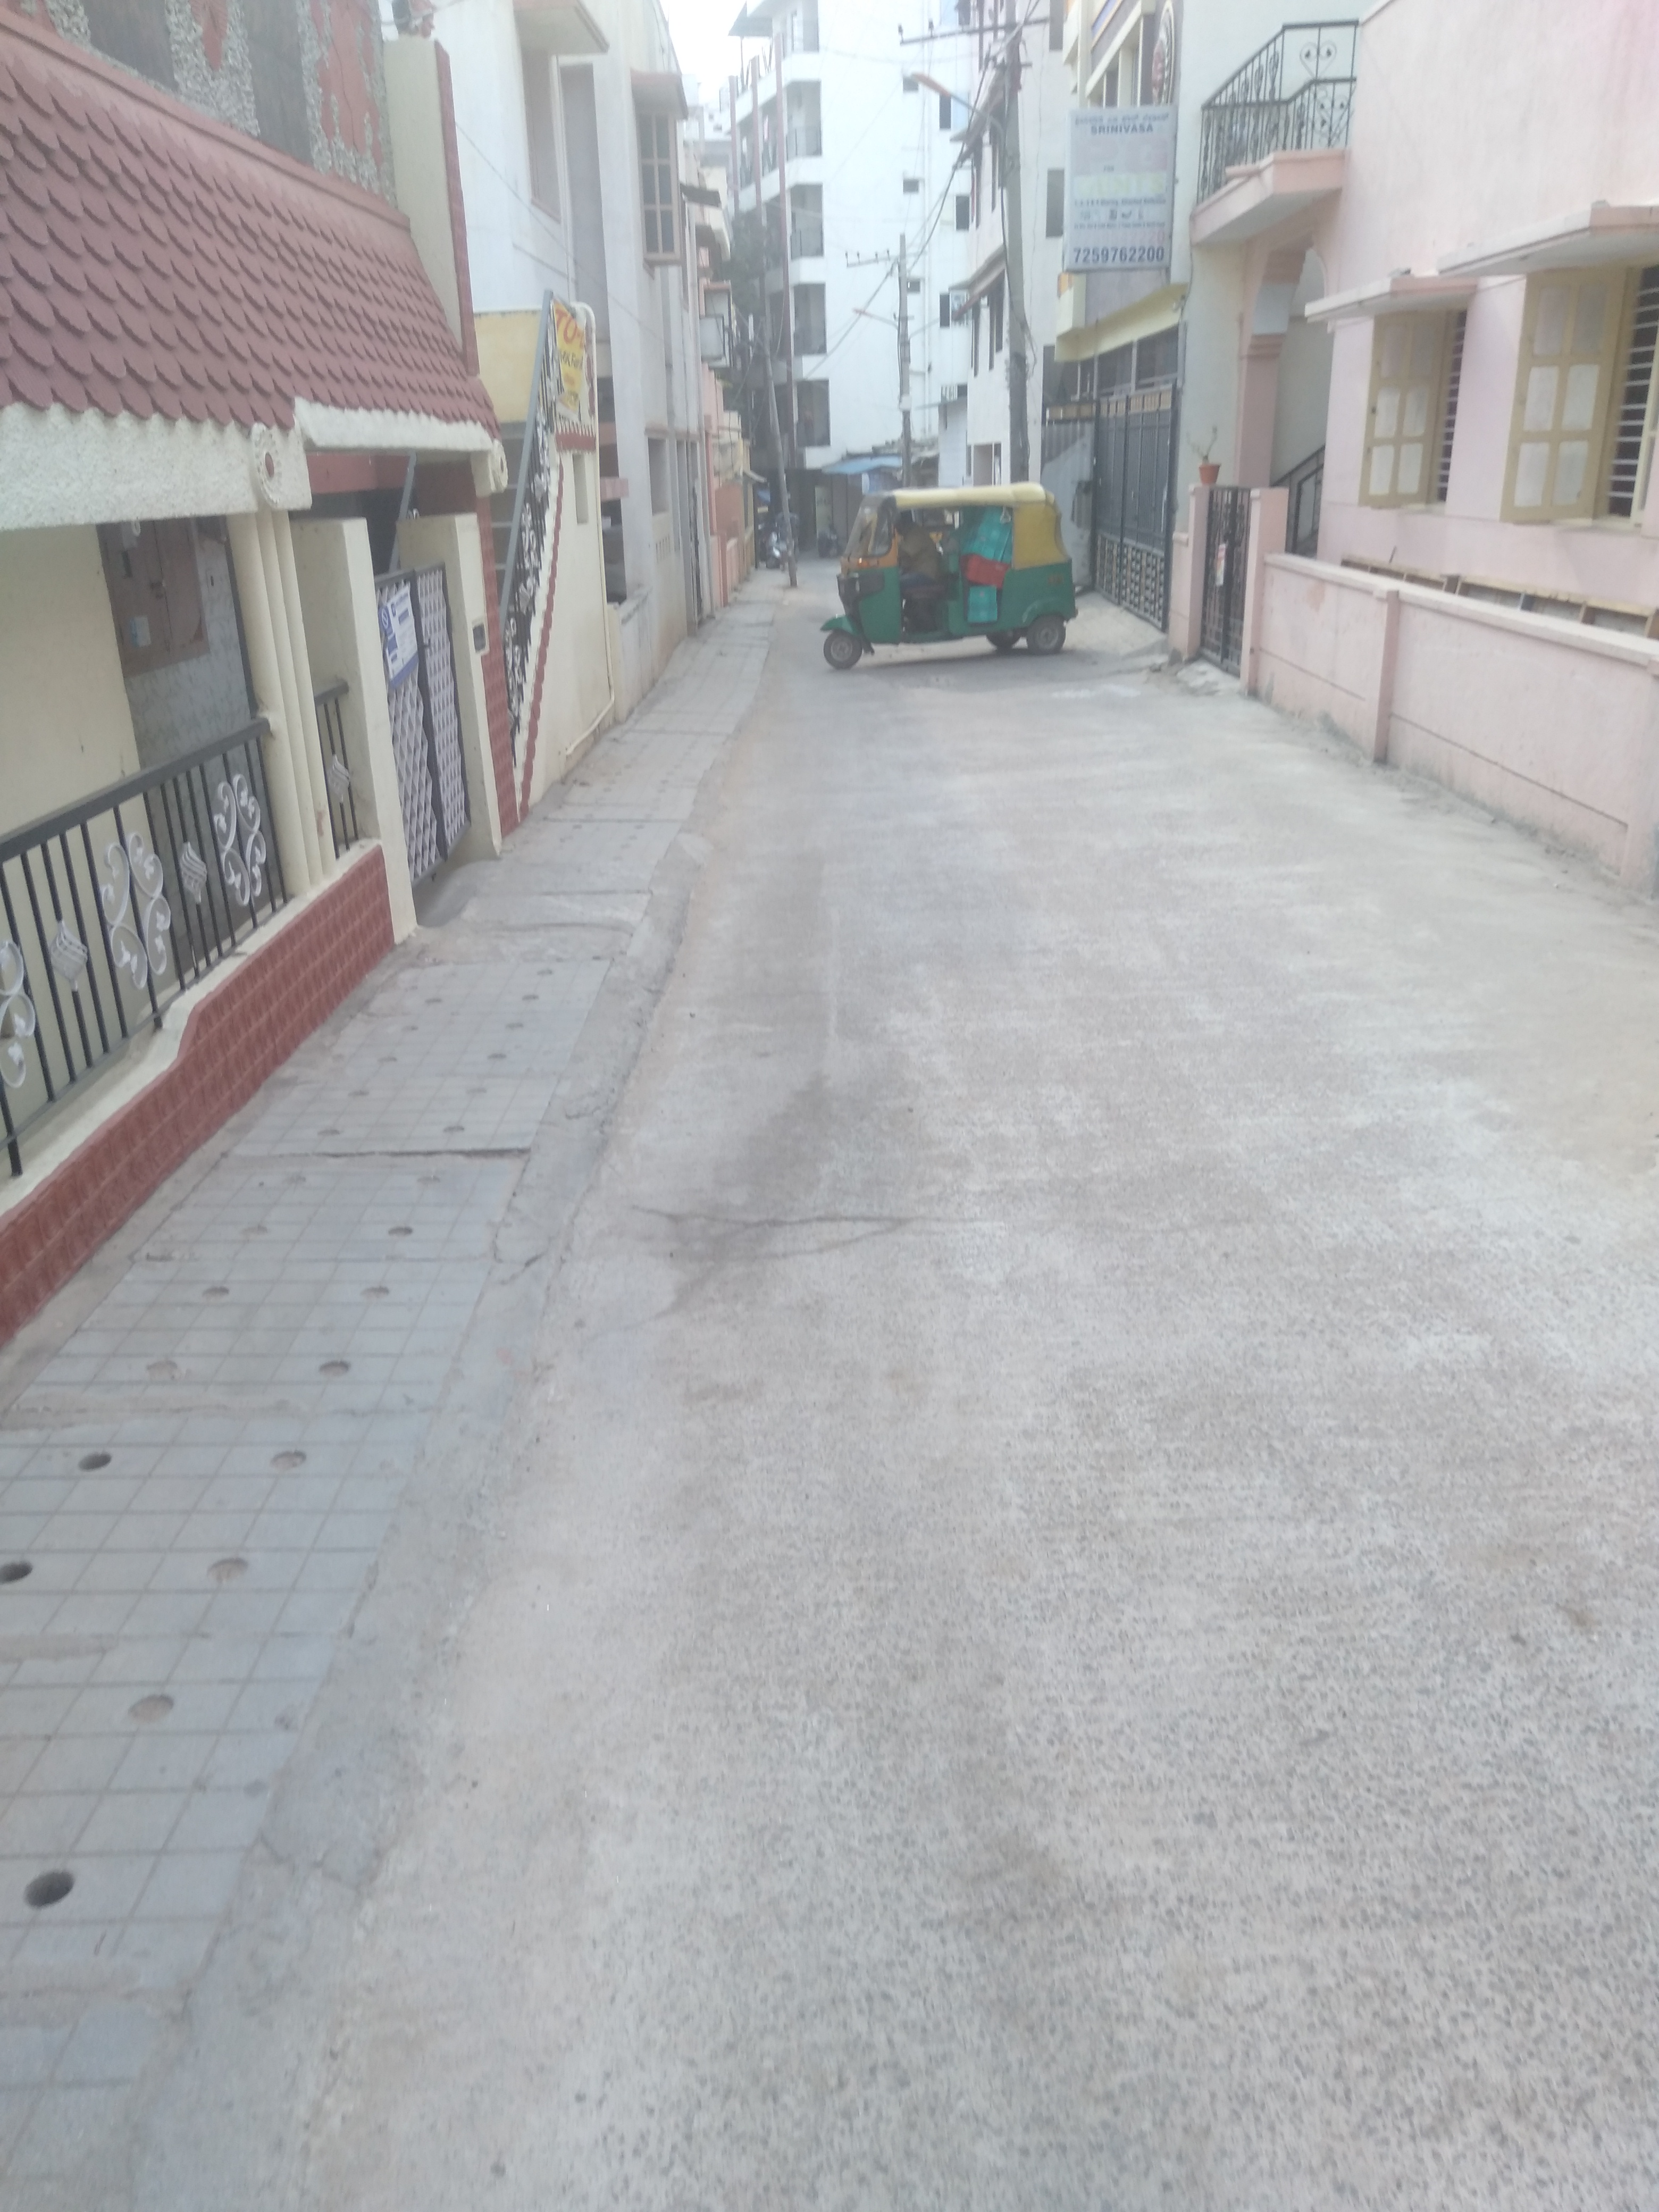auto: (821, 482, 1080, 669)
